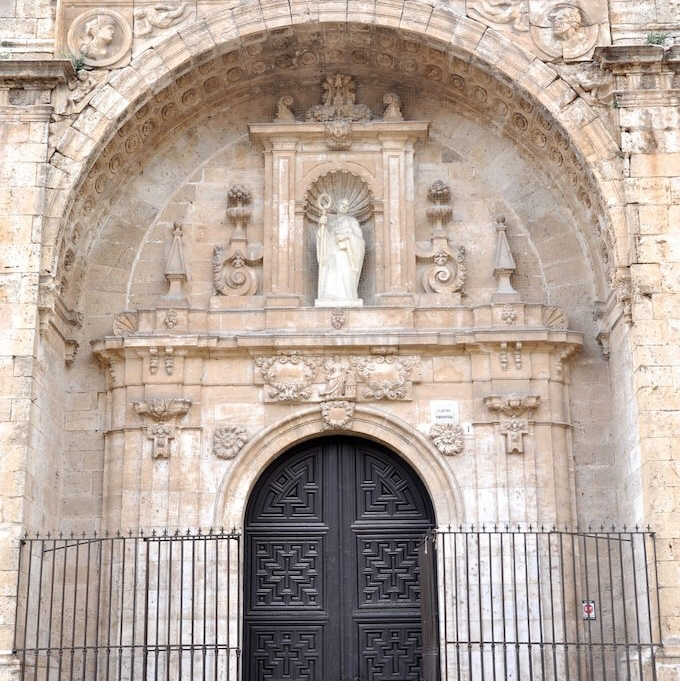arco-medio-punto: (31, 15, 644, 368), (236, 425, 449, 555)
